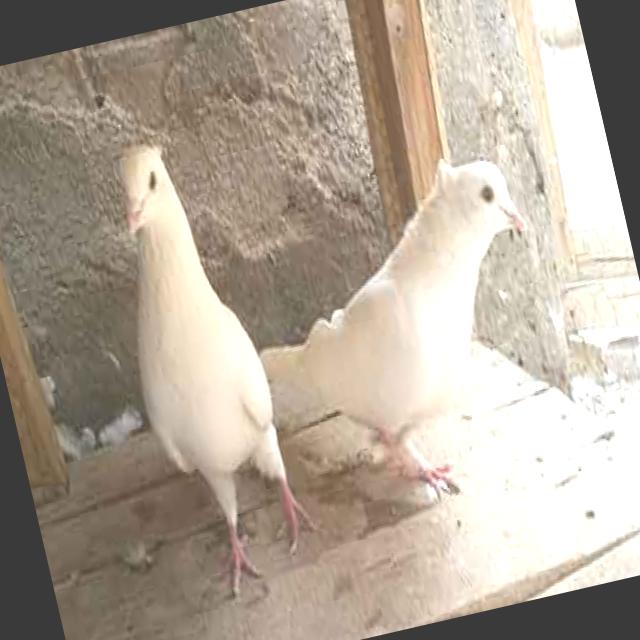bird: (212, 134, 588, 540), (82, 118, 334, 619)
